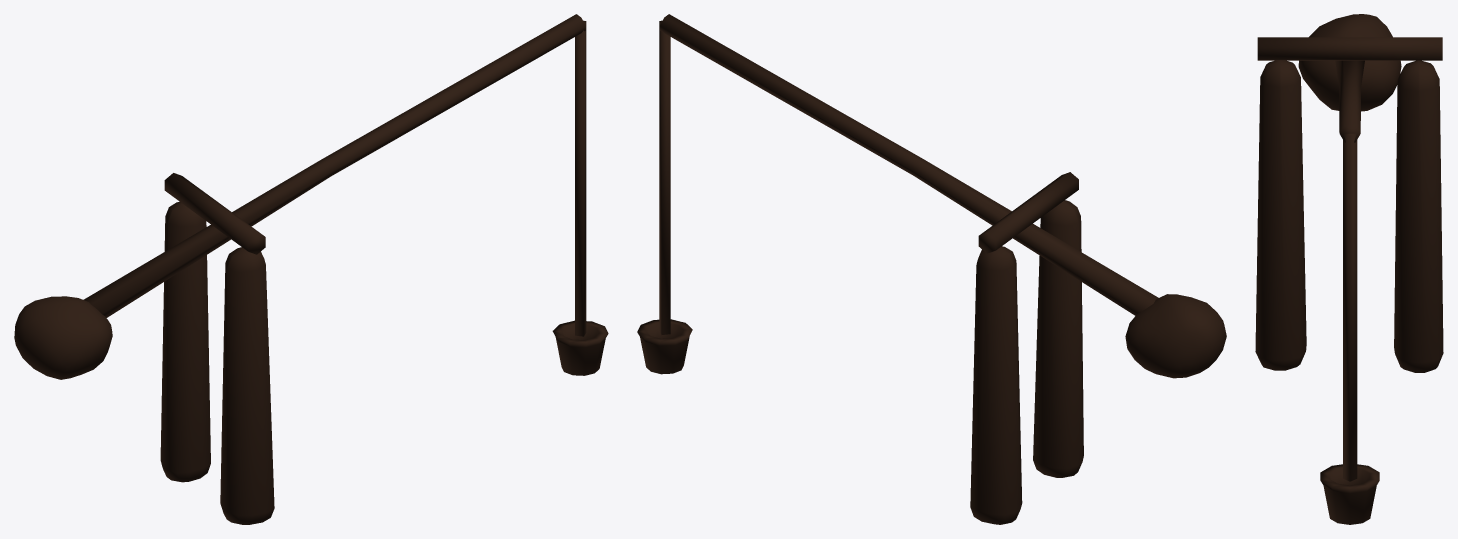
File: shaduf.glb
3 renders of one model, left to right at view 1: azimuth 30°, elevation 25°; view 2: azimuth 150°, elevation 25°; view 3: azimuth 270°, elevation 25°, orthographic. The views are drawn at different scales.
Visible parts, largest first — view 1: shaduf_outline; view 2: shaduf_outline; view 3: shaduf_outline.
Boxes of the visible parts, box(x1,y1,x2,y2) form: shaduf_outline: box(14, 14, 608, 524); shaduf_outline: box(637, 14, 1226, 524); shaduf_outline: box(1255, 14, 1443, 524).
Bounding box in the file's own units: 4.9 × 3.19 × 1.23.
